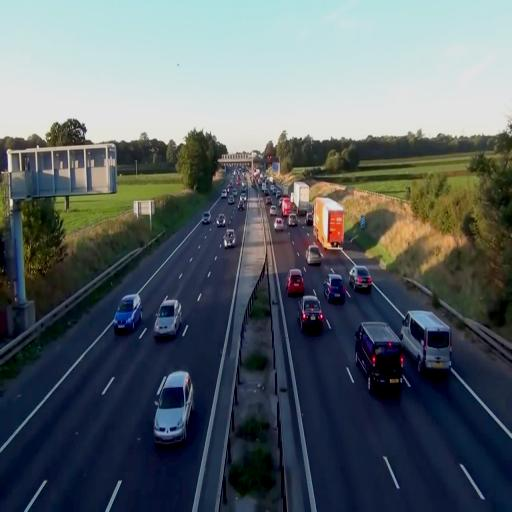vehicle: (354, 321, 404, 392), (400, 309, 452, 376), (154, 370, 194, 447), (313, 196, 345, 251), (113, 292, 143, 334), (153, 298, 183, 338), (299, 294, 324, 333), (299, 304, 325, 335), (348, 265, 372, 293), (326, 276, 346, 304), (286, 268, 304, 298), (306, 244, 323, 266), (224, 229, 236, 248), (202, 211, 211, 225)
